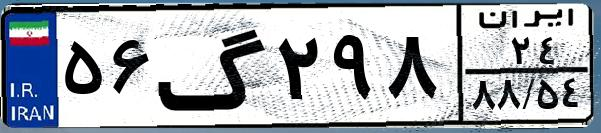2: (270, 28, 330, 110), (508, 27, 537, 80)
4: (560, 70, 590, 125), (537, 27, 568, 80)
5: (57, 26, 110, 100), (535, 70, 560, 125)
6: (110, 28, 156, 98)
8: (385, 28, 445, 110), (470, 70, 495, 125), (495, 70, 520, 125)
9: (330, 28, 385, 110)
گ: (156, 12, 270, 120)
